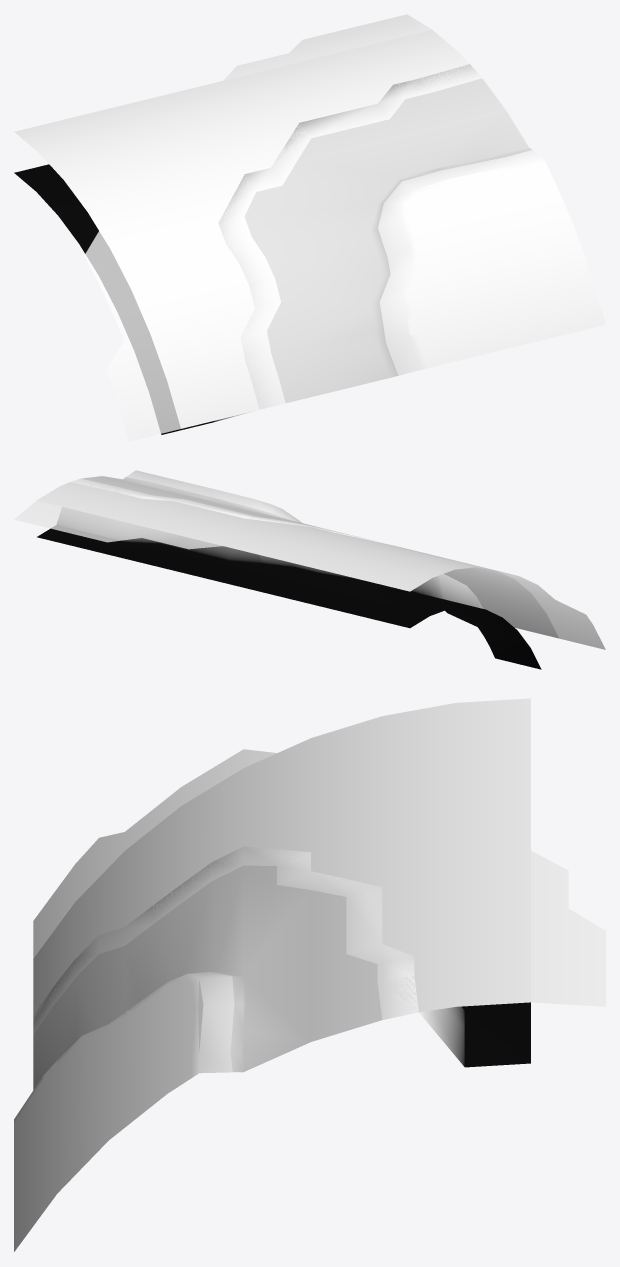
Rendered from grd_Inw_0.dae.
3 views of the same model, one above another, from view 1: azimuth 30°, elevation 25°; view 2: azimuth 150°, elevation 25°; view 3: azimuth 270°, elevation 25° (orthographic). The views are drawn at different scales.
Parts seen in each view (by area): view 1: grd_Inw_0; view 2: grd_Inw_0; view 3: grd_Inw_0.
Boxes of the visible parts, bbox=[...] form: grd_Inw_0: bbox=[14, 14, 605, 441]; grd_Inw_0: bbox=[14, 470, 605, 669]; grd_Inw_0: bbox=[14, 698, 605, 1251].
Bounding box in the file's own units: 576 × 228 × 421.
6 materials, 1 textured.
